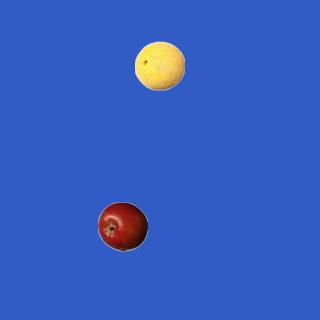Apple Braeburn: (97, 201, 147, 251)
Cantaloupe 1: (134, 40, 184, 90)
